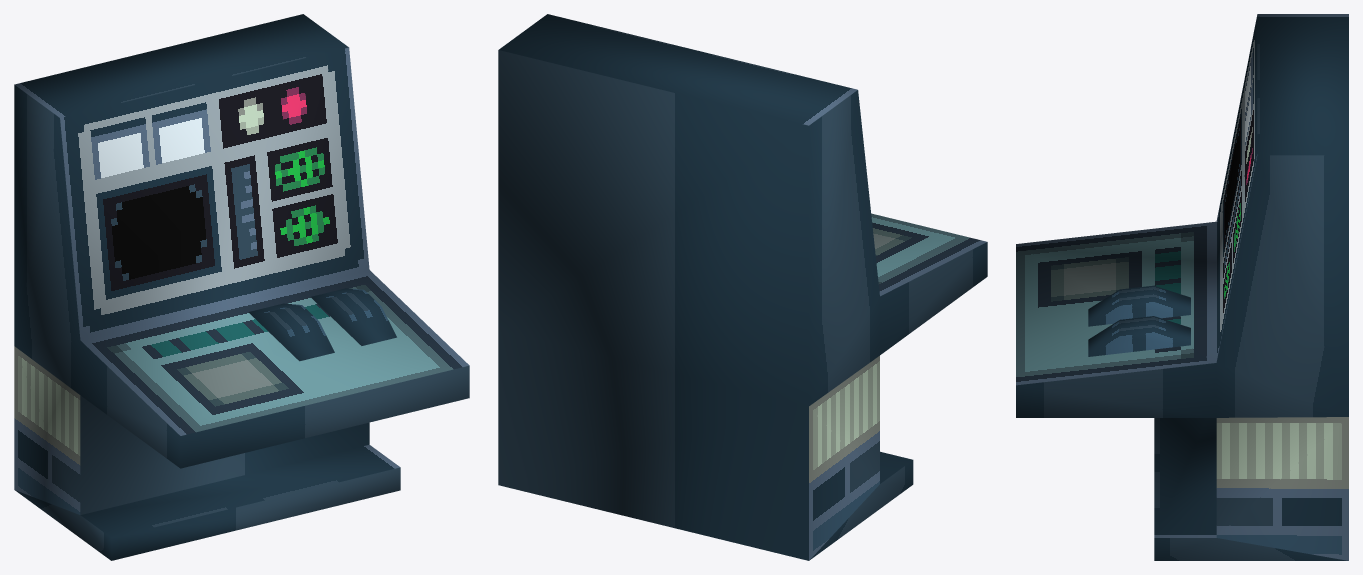
3 renders of one model, left to right at view 1: azimuth 30°, elevation 25°; view 2: azimuth 150°, elevation 25°; view 3: azimuth 270°, elevation 25°, orthographic. The views are drawn at different scales.
Visible parts, largest first — view 1: 3304IMIG07_08; view 2: 3304IMIG07_08; view 3: 3304IMIG07_08.
Boxes of the visible parts, <box> form: 3304IMIG07_08: <box>14,14,469,560</box>; 3304IMIG07_08: <box>498,14,987,560</box>; 3304IMIG07_08: <box>1016,14,1348,560</box>.
Bounding box in the file's own units: 0.8999 × 1.21 × 0.8965.
4 materials, 4 textured.
